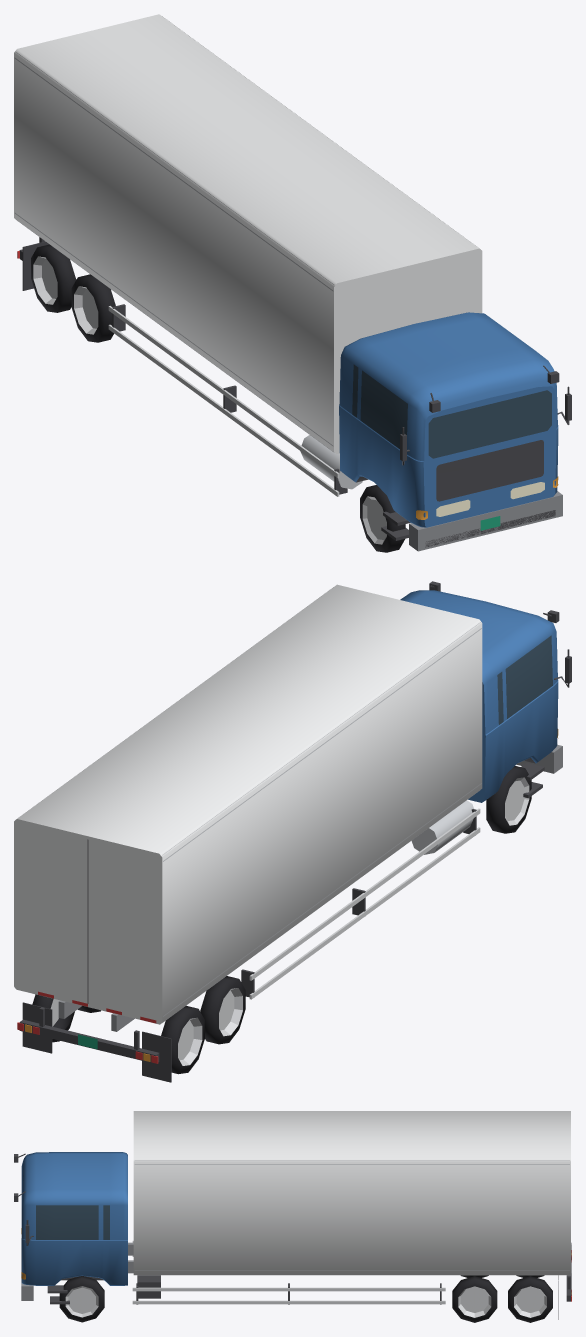
3 renders of one model, top to bottom at view 1: azimuth 30°, elevation 25°; view 2: azimuth 150°, elevation 25°; view 3: azimuth 270°, elevation 25°, orthographic. The views are drawn at different scales.
Visible parts, largest first — view 1: 361; view 2: 361; view 3: 361.
Part boxes in pixels (x1,y1,x2,y2): 361: (14, 14, 571, 552); 361: (14, 581, 571, 1082); 361: (14, 1111, 571, 1322).
Bounding box in the file's own units: 2.83 × 3.85 × 11.82.
